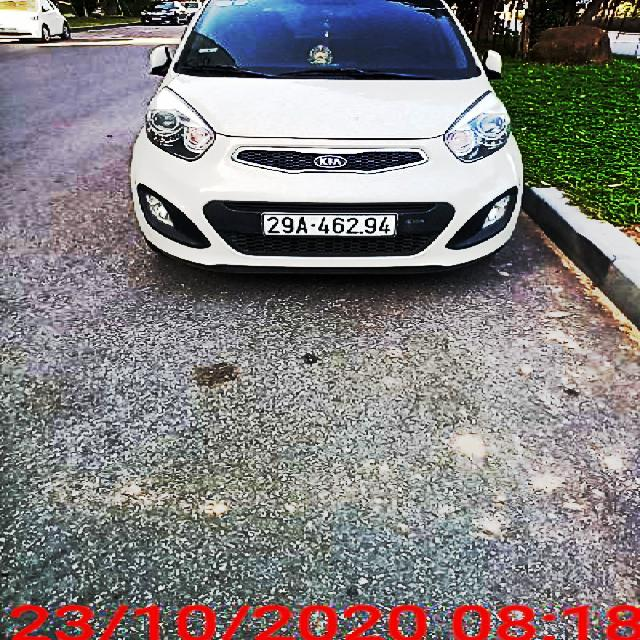license_plate: (261, 214, 400, 237)
